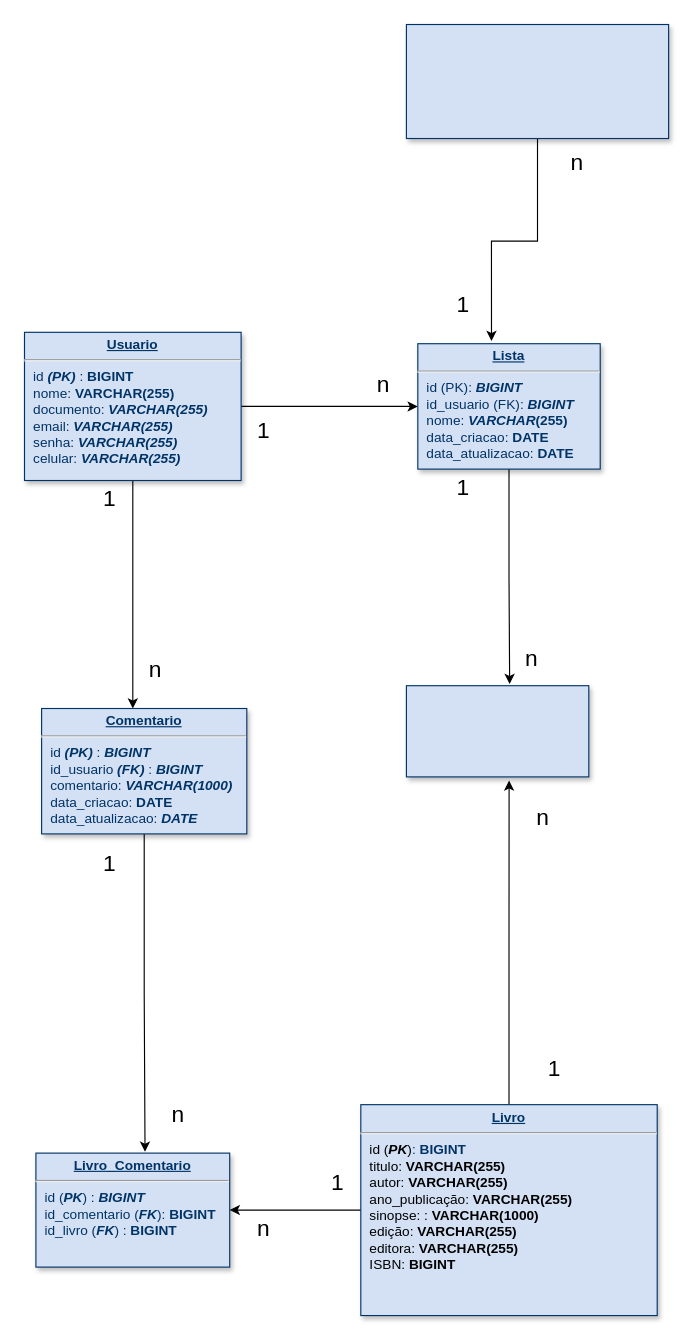
The diagram is 695 pixels wide and 1344 high, and some of its shapes have lost their labels. The centre of each missing label's shape, as x and y in pixels:
"Livro_Lista id (PK) : BIGINT id_livro (FK) : BIGINT id_lista (FK) : BIGINT" belongs at (498,732).
"Match id (PK): BIGINT id_usuario (FK): BIGINT id_lista (FK): BIGINT" belongs at (538,82).
